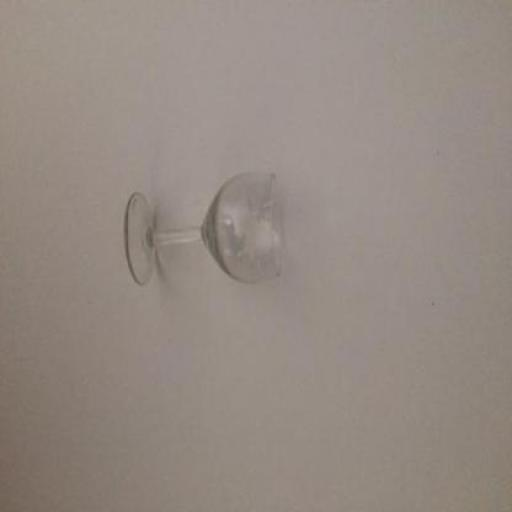glass: (122, 168, 280, 284)
